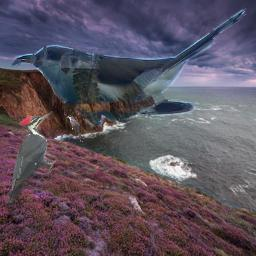Cuckoo: (12, 8, 253, 128), (66, 115, 83, 142)
Woodpecker: (4, 111, 56, 203)
